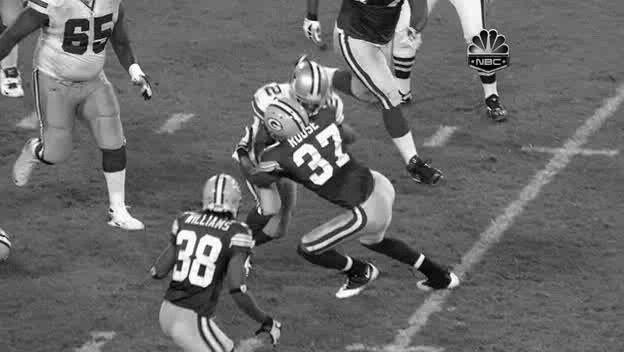person: (292, 65, 331, 115), (291, 65, 330, 115), (293, 65, 332, 115), (292, 64, 331, 114), (292, 66, 331, 116)
target_negative: (193, 38, 558, 283), (168, 287, 529, 301), (539, 309, 623, 330), (120, 219, 194, 227), (452, 344, 520, 349), (190, 252, 298, 253)
